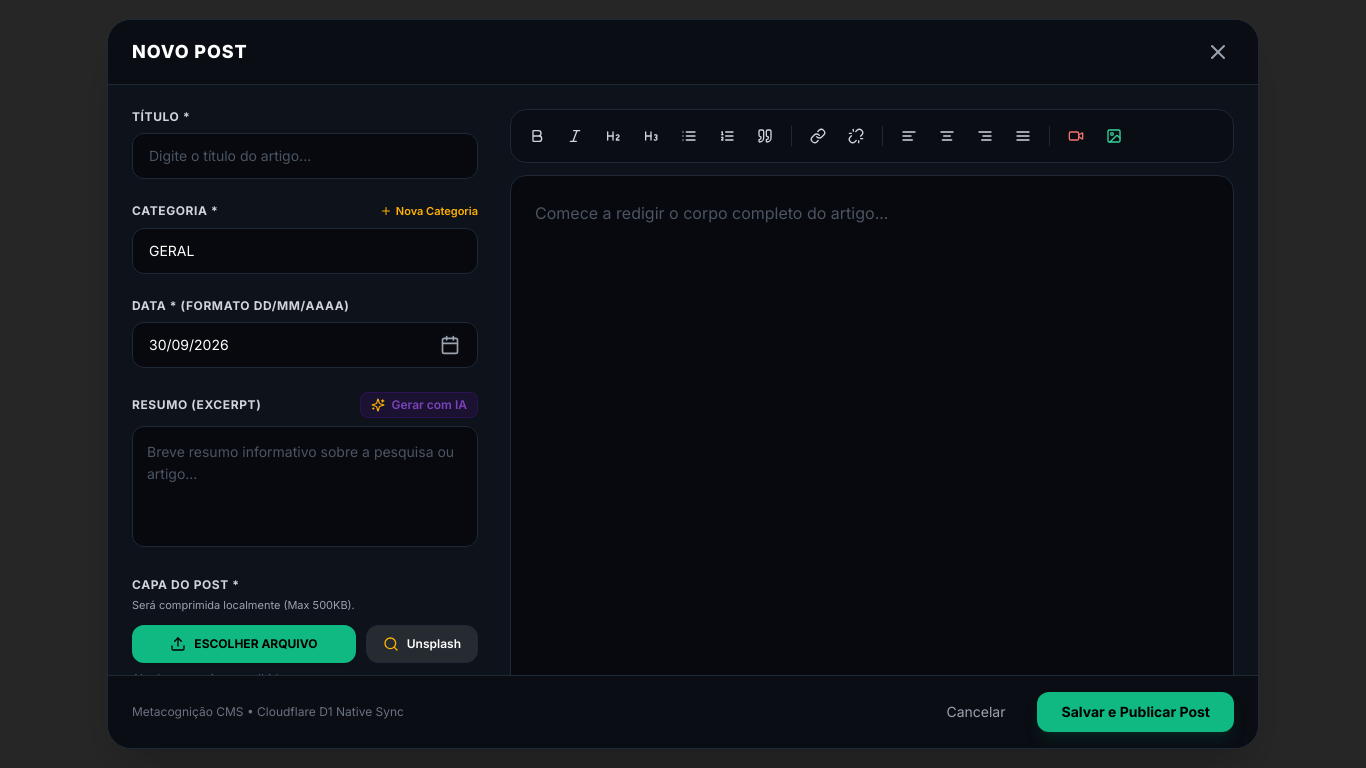
Test: NewPostModal.vue › TEST-POST-07: deve exibir erro se a gravação do post falhar
The width and height of the screenshot is (1366, 768).
Type "Post com Falha" into the field with test id "input-post-title" at (305, 156), box [132,133,478,179]
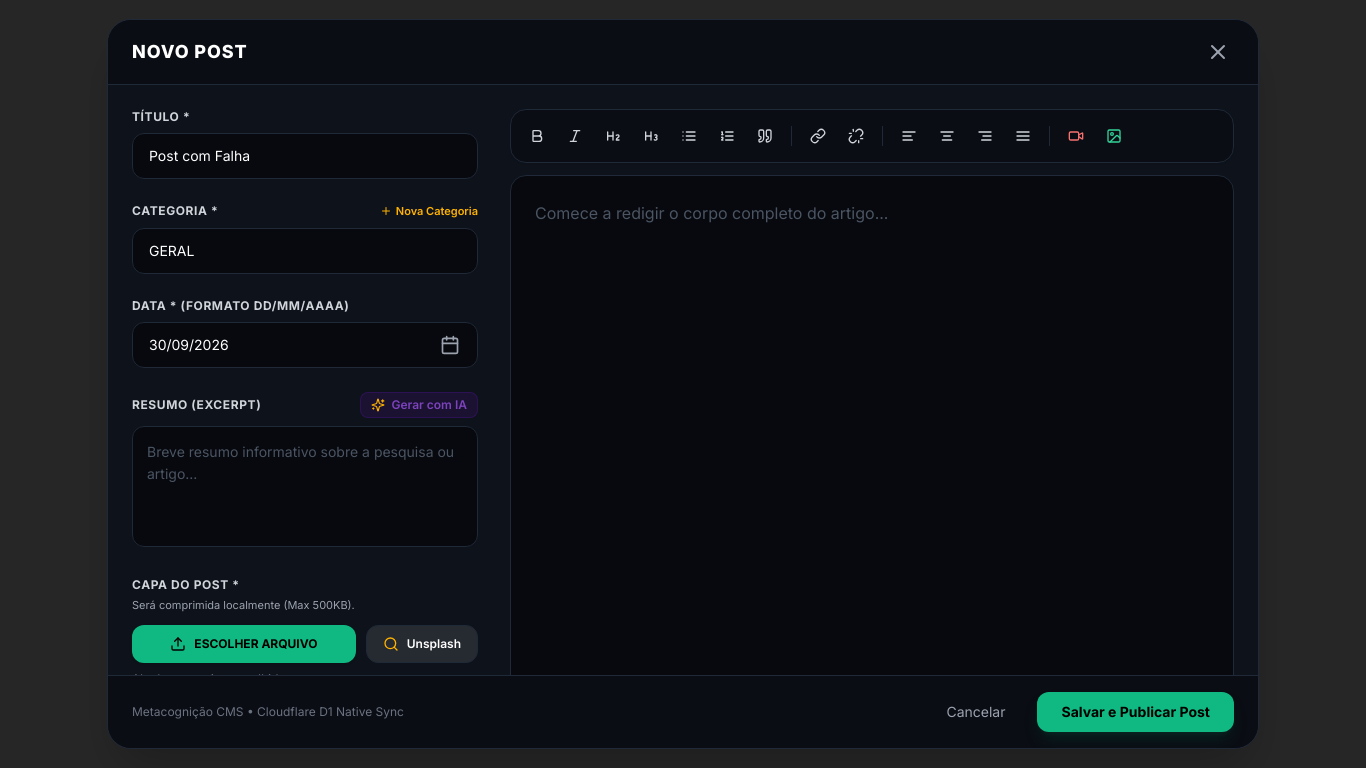
Replace the text in the field with test id "input-display-date" with "29/09/2026" at (305, 345), box [132,322,478,368]
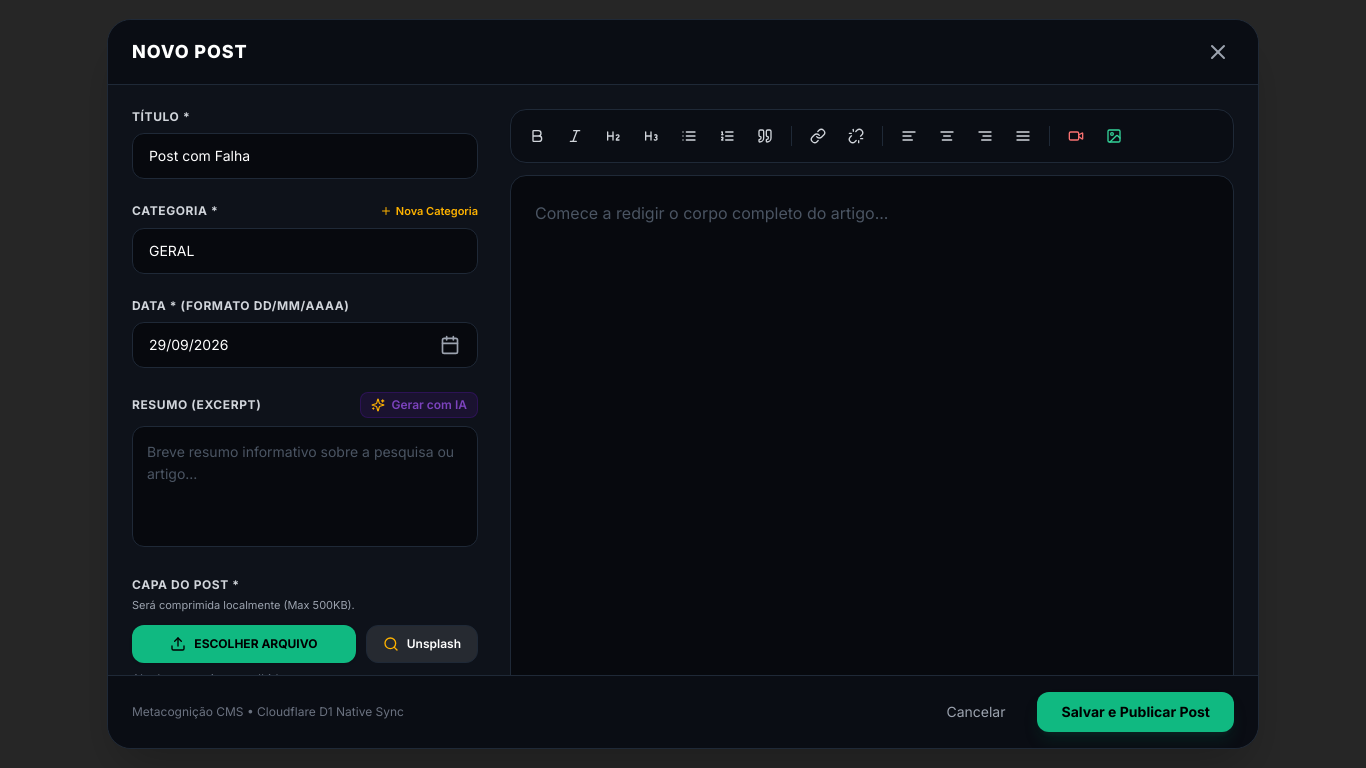
Type "Resumo" into the text box with test id "textarea-post-excerpt" at (305, 486), box [132,426,478,547]
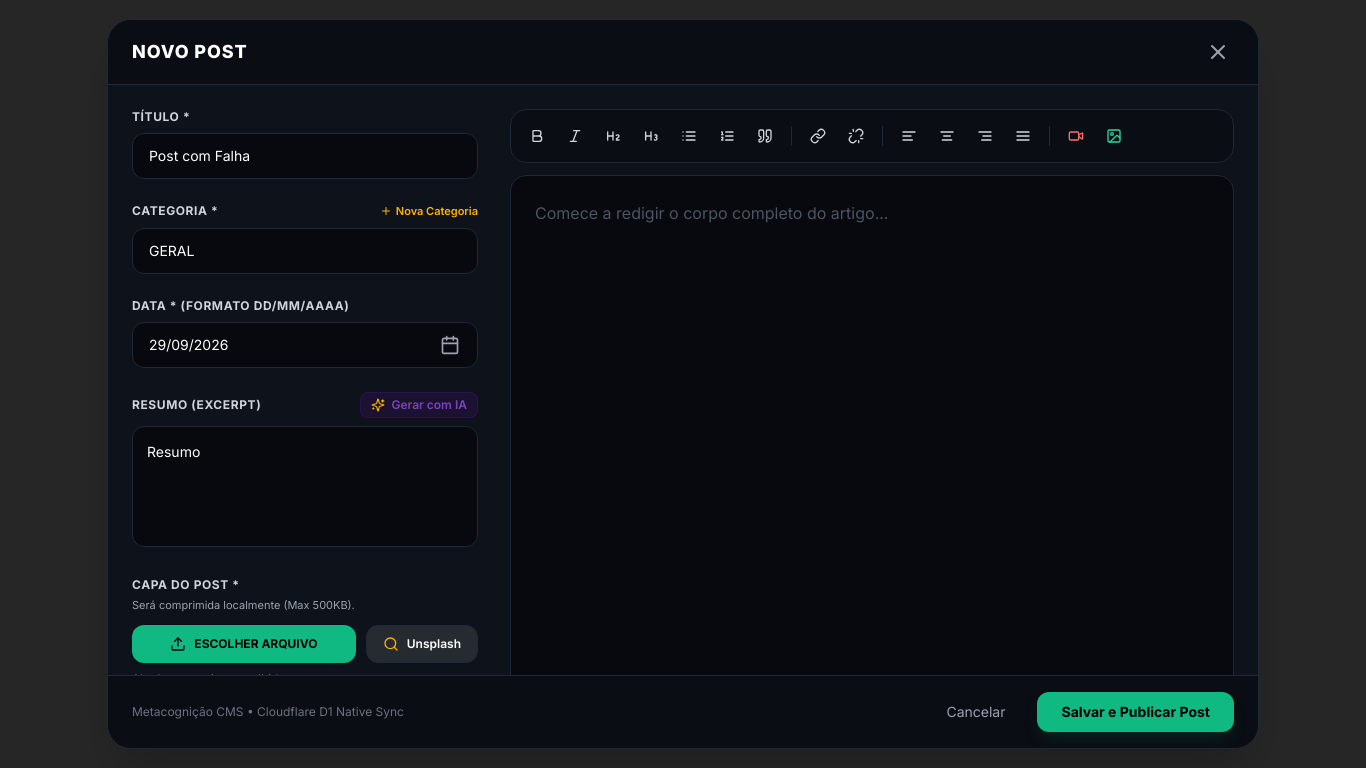
Click the button with test id "btn-save-post" at (1136, 712), box [1038,692,1234,732]
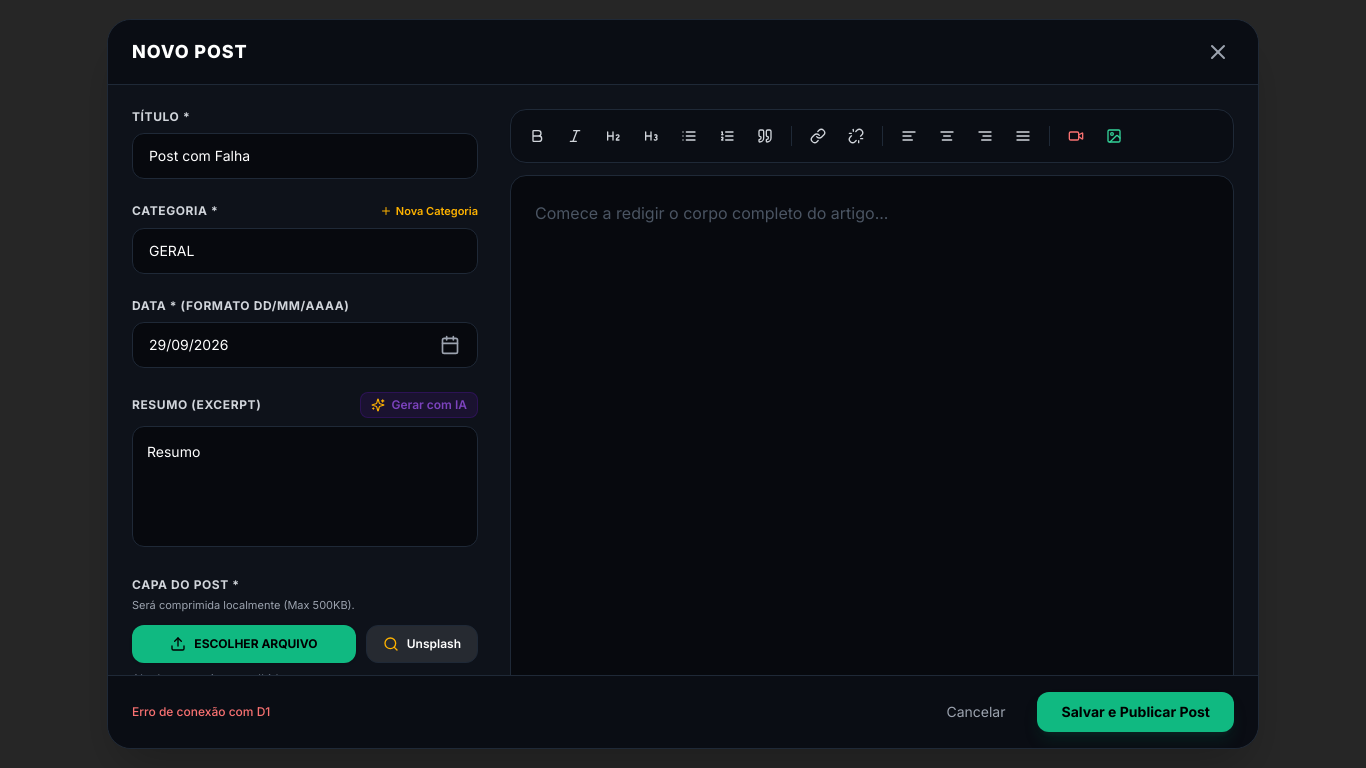
Check: the text with test id "form-error" reads "Erro de conexão com D1", box [132,704,270,719]
